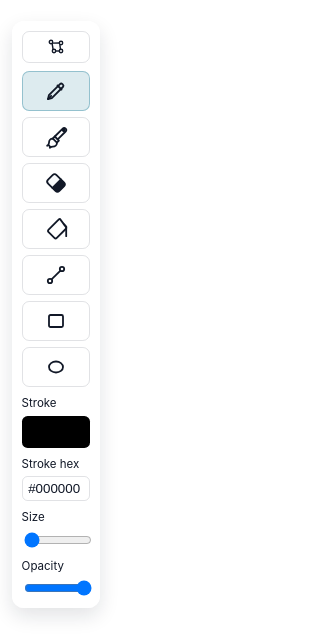
MapDrawingToolbar › shows softness only for non-pencil tools
This screenshot has width=320, height=641.
Click the button named "Brush": (56, 137) [22,117,90,157]
(page scrolled)
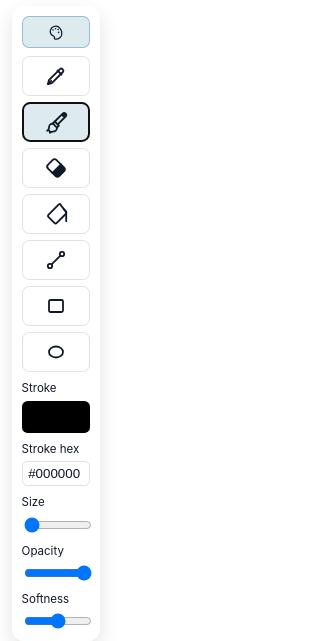
expect the slider named "Drawing tool softness" is shown: met, box [24,613,92,629]
